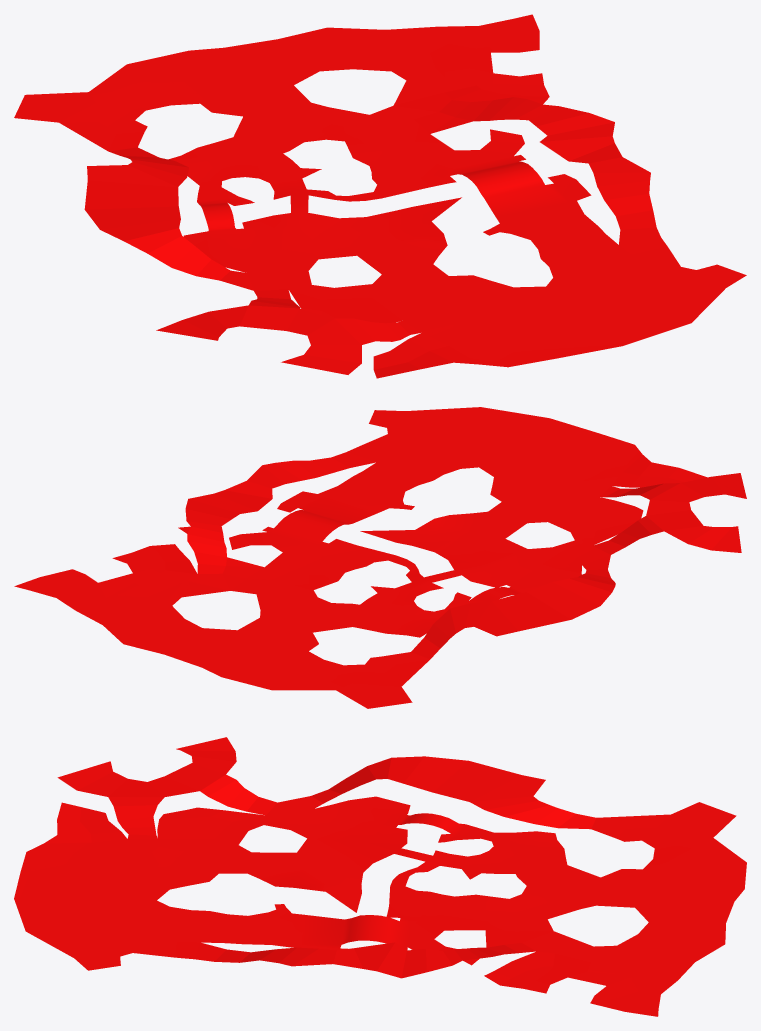
The model's file is navmesh.FBX.
3 renders of one model, top to bottom at view 1: azimuth 30°, elevation 25°; view 2: azimuth 150°, elevation 25°; view 3: azimuth 270°, elevation 25°, orthographic. The views are drawn at different scales.
Parts seen in each view (by area): view 1: temp001sdfsdf; view 2: temp001sdfsdf; view 3: temp001sdfsdf.
Part boxes in pixels (x1,y1,x2,y2): temp001sdfsdf: [14, 14, 746, 378]; temp001sdfsdf: [14, 407, 746, 708]; temp001sdfsdf: [14, 737, 746, 1016].
Size of the model in its own units: 108 by 3.6 by 124.
